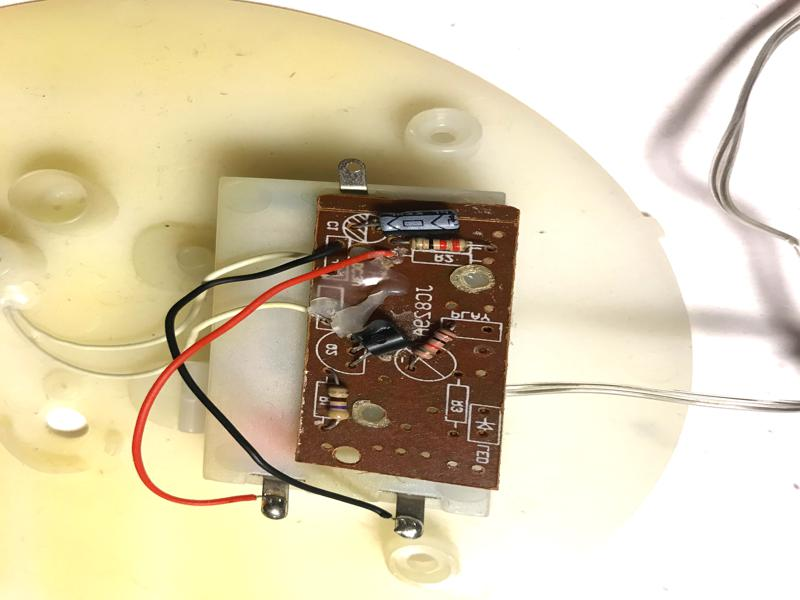Capacitor: (373, 206, 465, 239)
Resistor: (407, 323, 460, 365), (406, 232, 477, 254), (324, 378, 353, 429)
